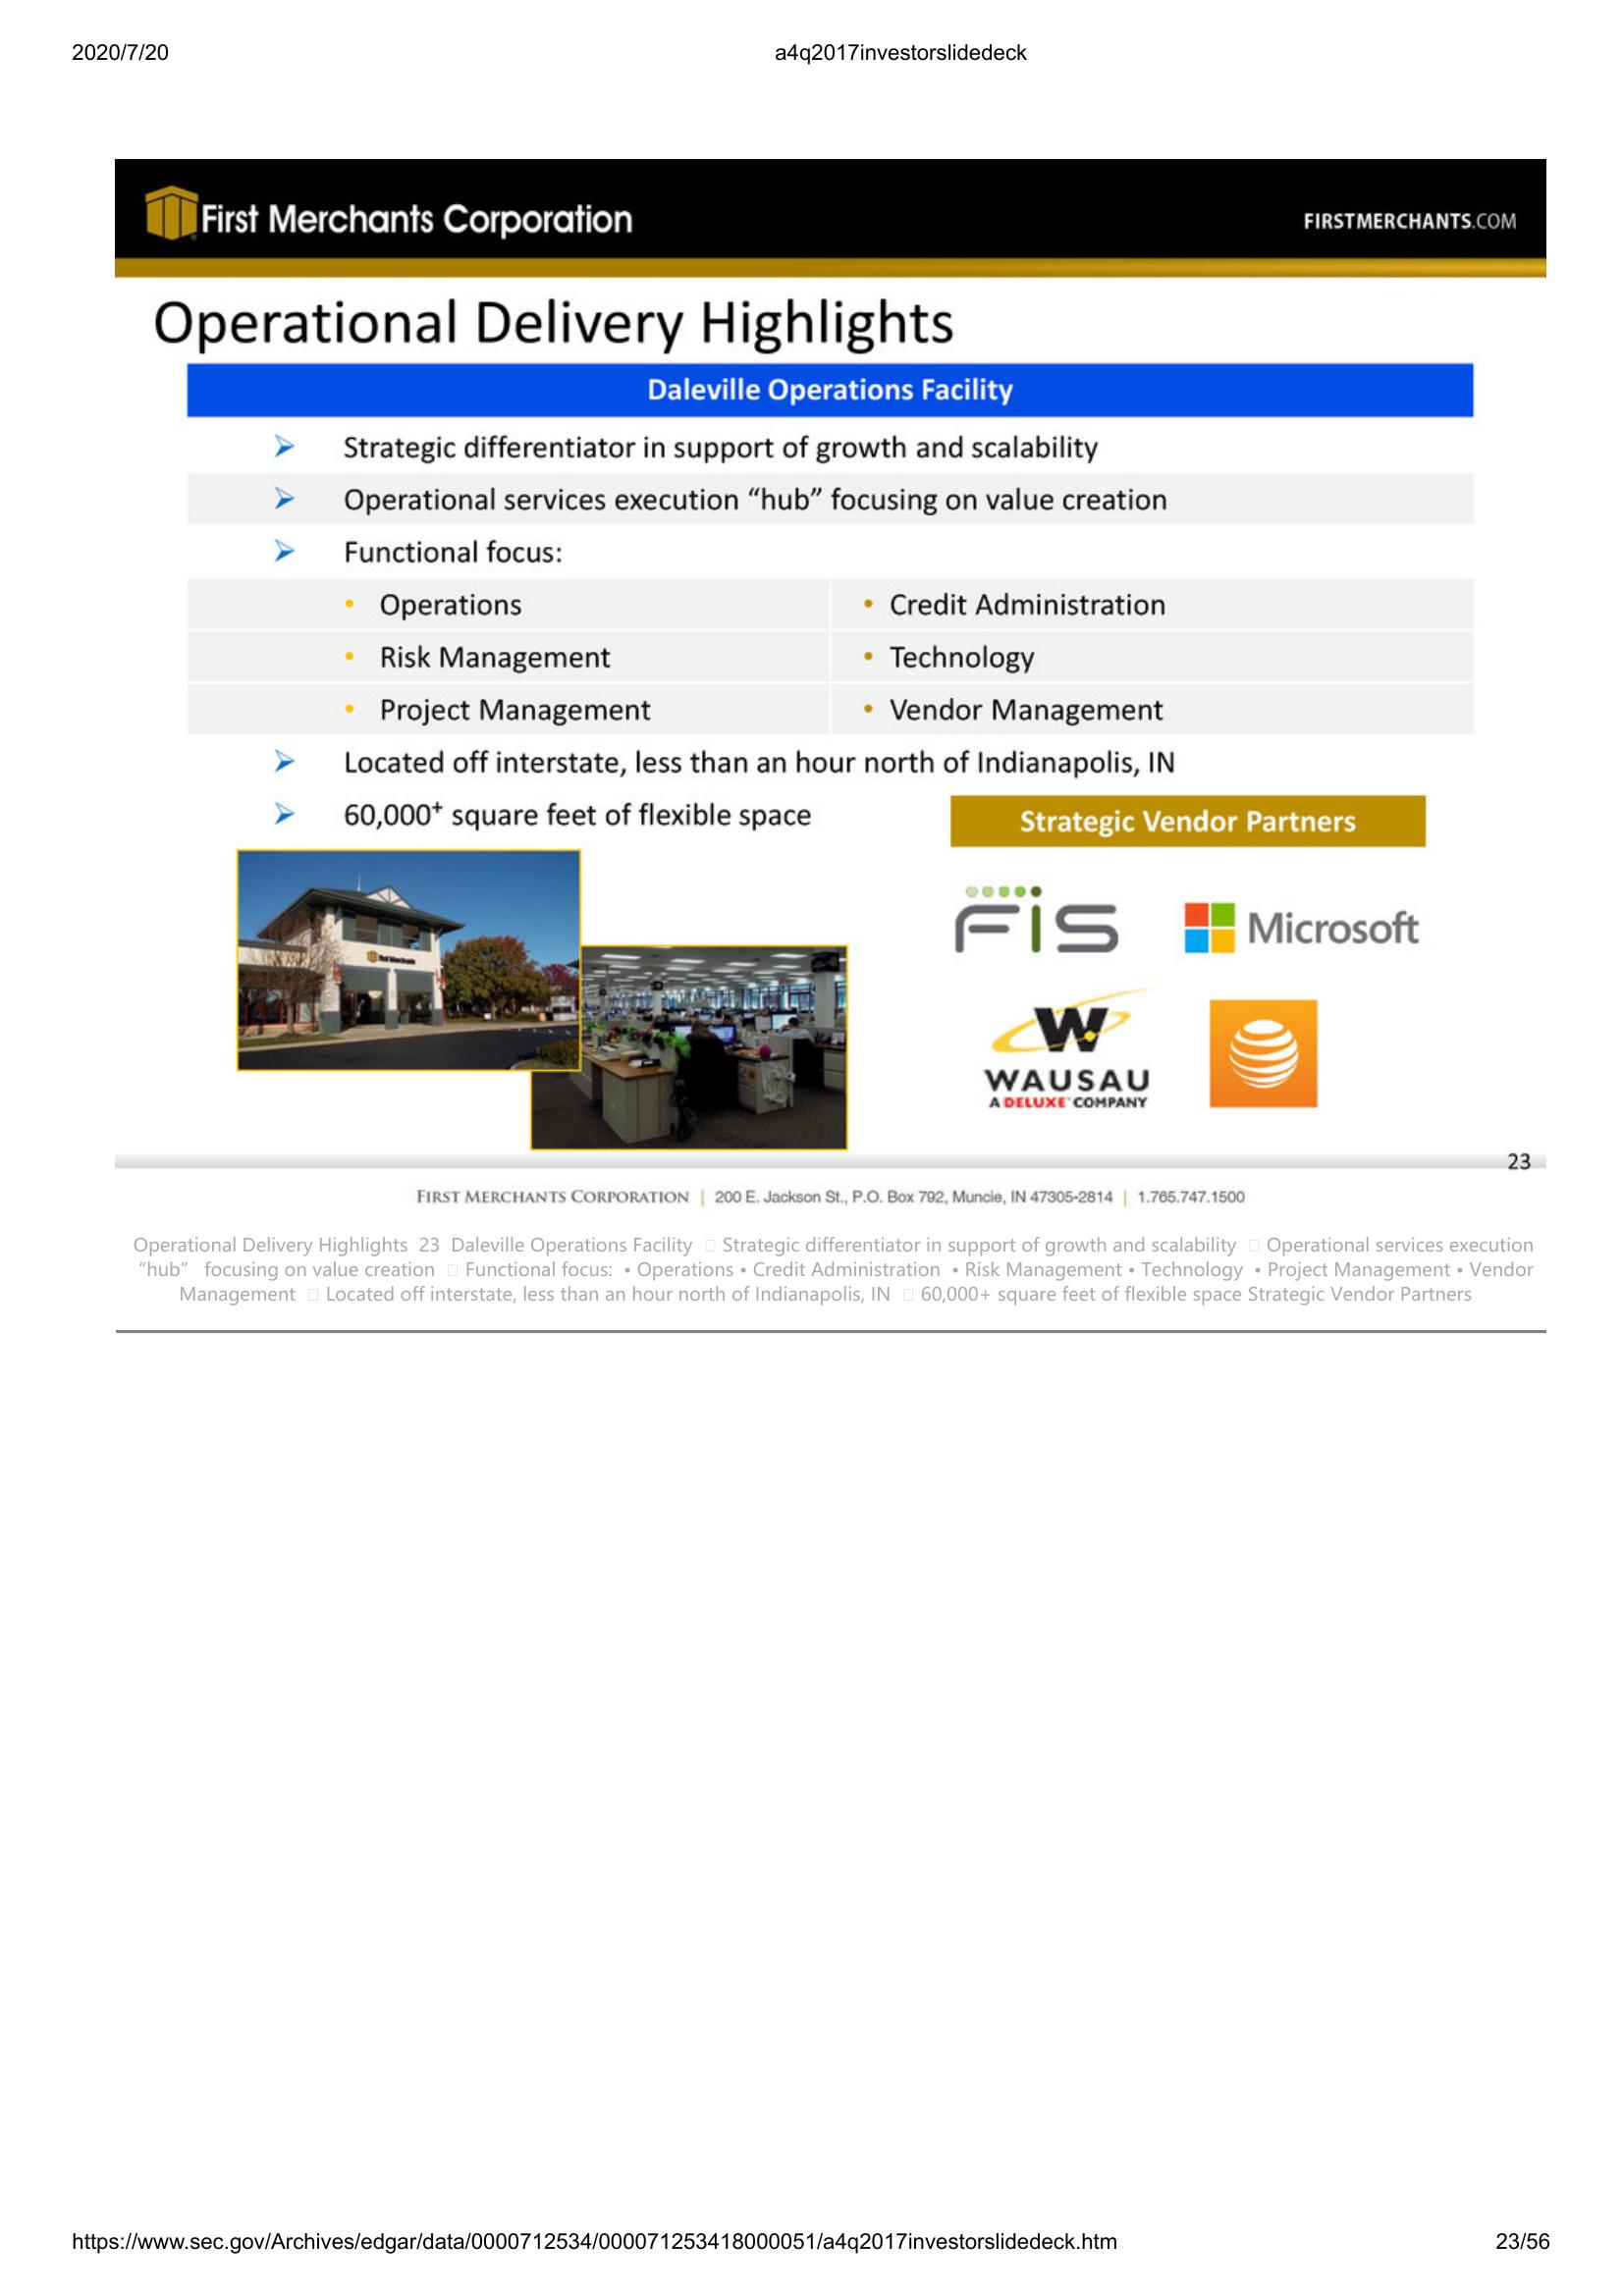table: (183, 358, 1482, 853)
